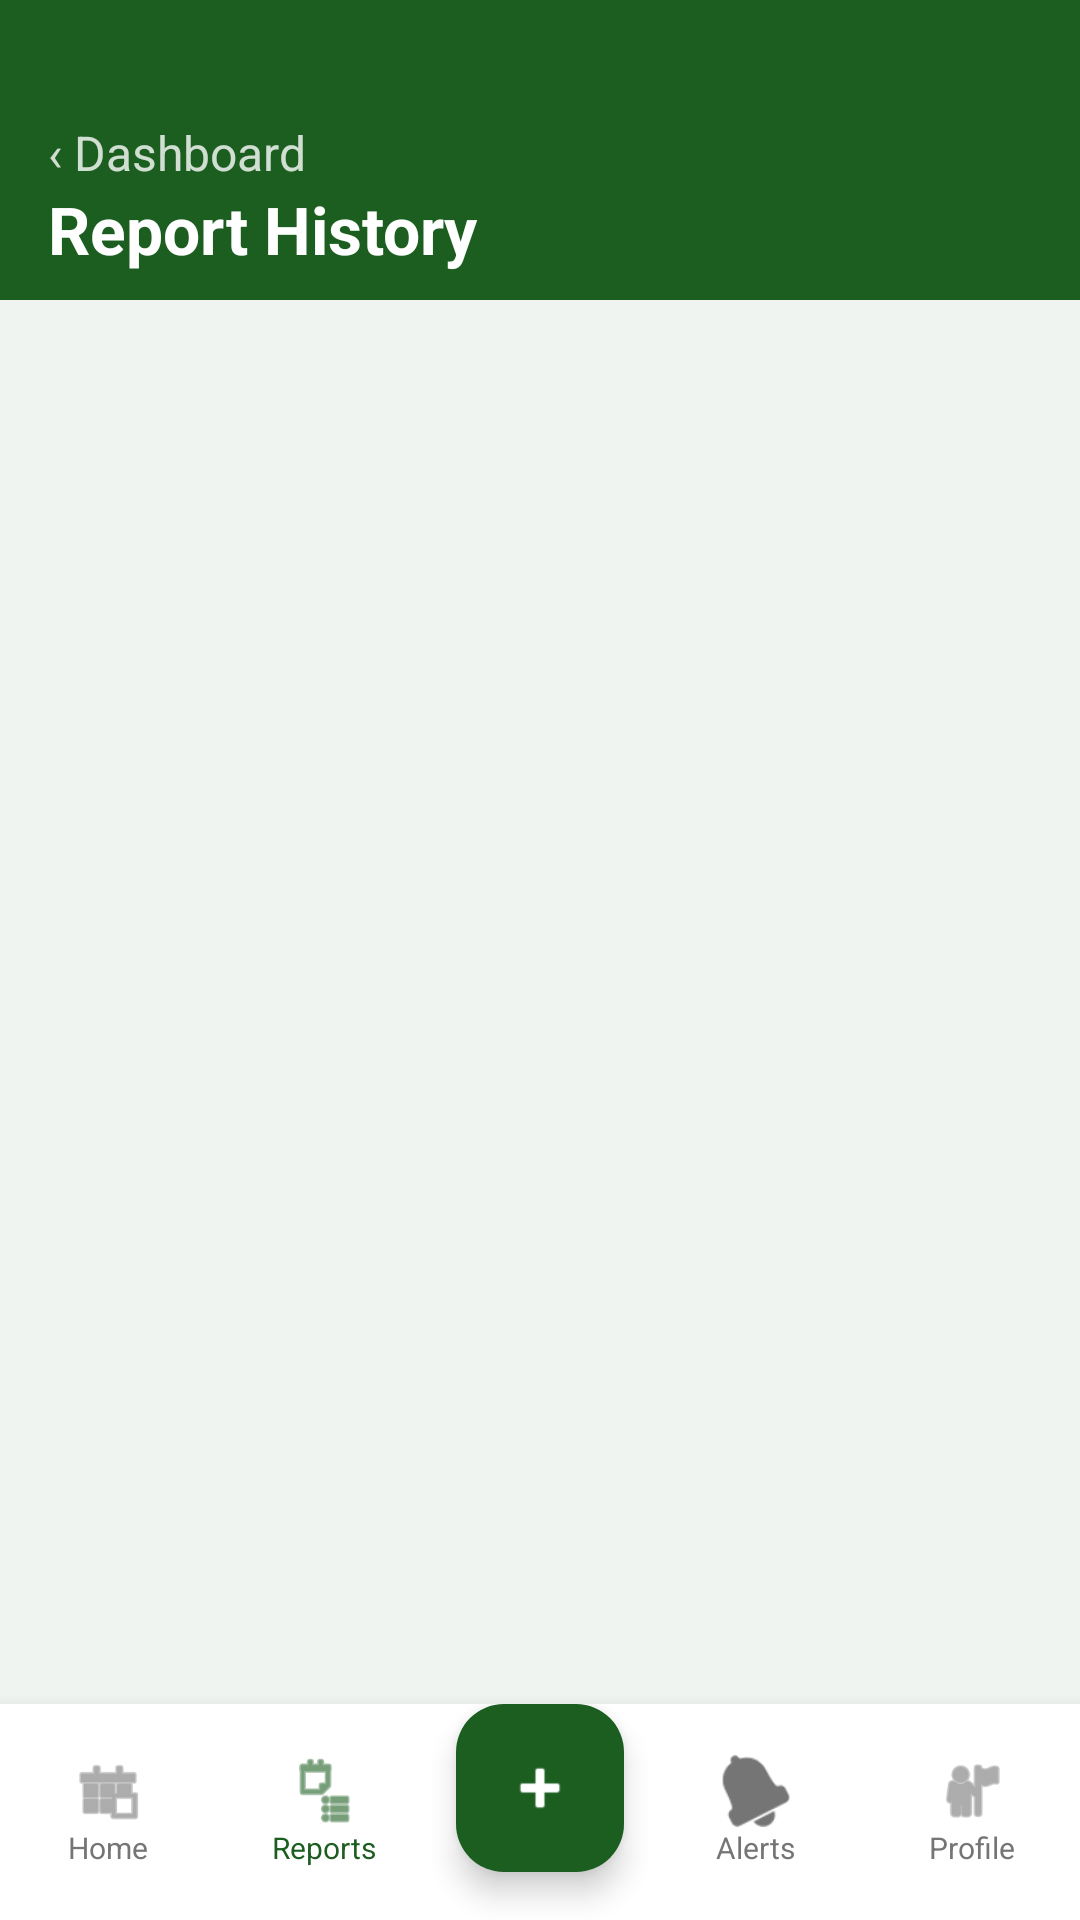

Screen size 1080px×1920px. Icon name, then its box in pixels as (x1, y1, x2, y2):
add: (456, 1704, 624, 1872)
agenda: (299, 1759, 350, 1823)
popup reminder: (722, 1755, 790, 1827)
today: (79, 1765, 138, 1819)
